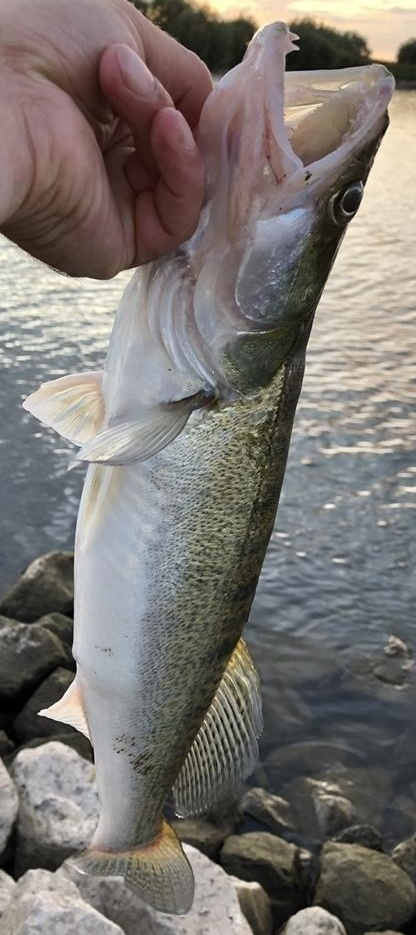Sander lucioperca: (20, 20, 396, 915)
